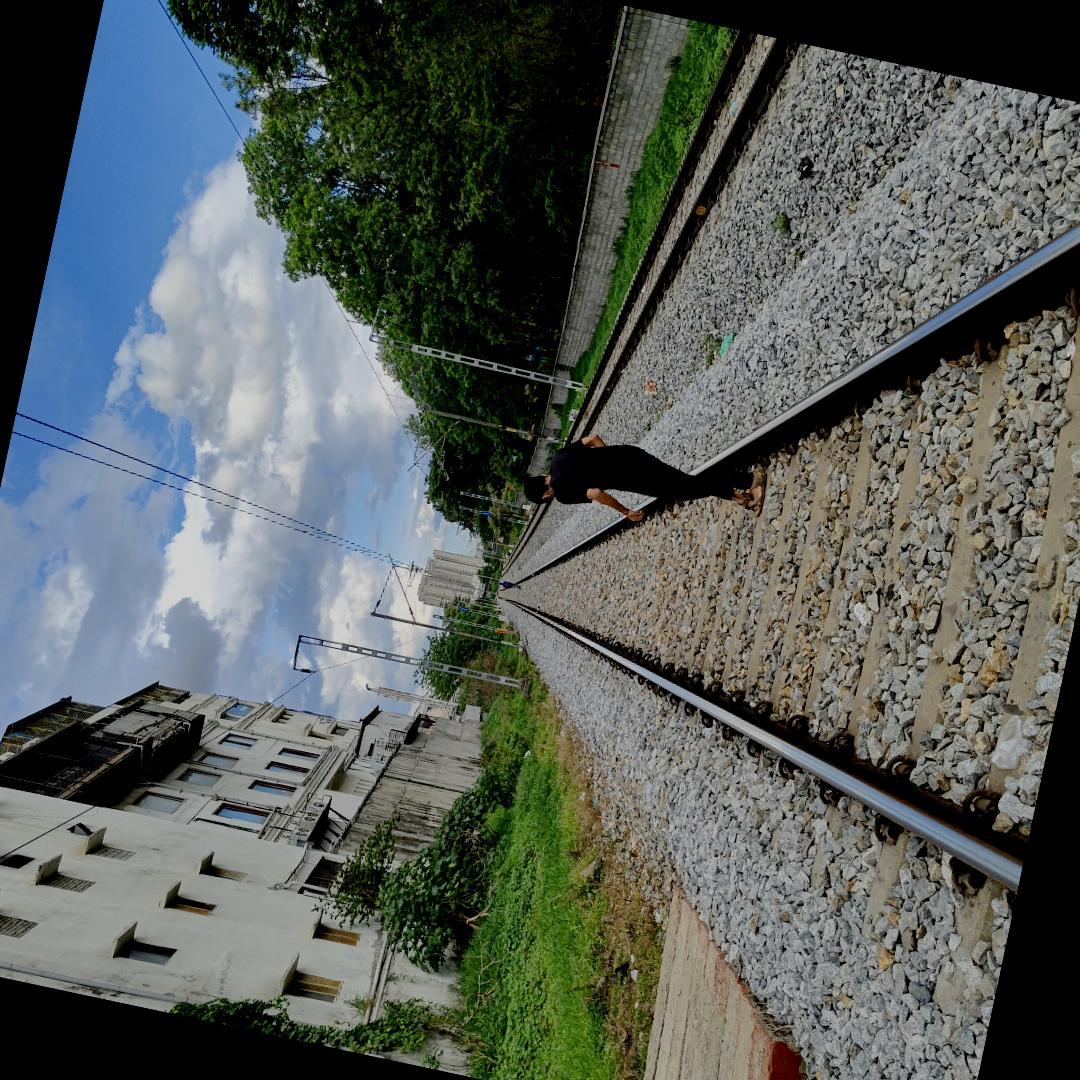standing: (511, 419, 786, 526)
